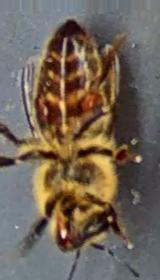varroa_mite: (24, 90, 56, 130), (71, 84, 105, 120)
